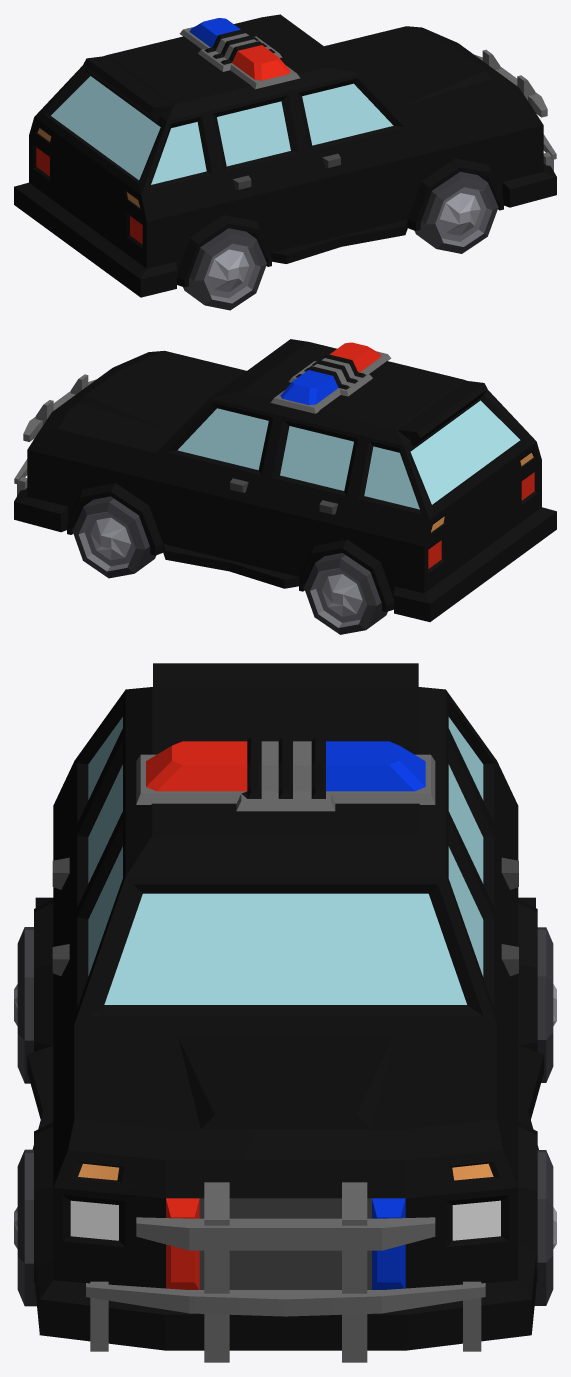
Rendered from car_police_1.fbx.
3 views of the same model, one above another, from view 1: azimuth 30°, elevation 25°; view 2: azimuth 150°, elevation 25°; view 3: azimuth 270°, elevation 25° (orthographic). The views are drawn at different scales.
Parts seen in each view (by area): view 1: car_police_1, car_police_1_wheels_F, car_police_1_wheels_B; view 2: car_police_1, car_police_1_wheels_B, car_police_1_wheels_F; view 3: car_police_1, car_police_1_wheels_F, car_police_1_wheels_B.
Boxes of the visible parts, x1,y1,x2,y2 form: car_police_1: (14,14,556,297); car_police_1_wheels_F: (414,171,498,253); car_police_1_wheels_B: (183,228,266,310); car_police_1: (14,339,556,621); car_police_1_wheels_B: (304,553,387,634); car_police_1_wheels_F: (72,496,156,578); car_police_1: (27,663,544,1362); car_police_1_wheels_F: (14,1149,556,1306); car_police_1_wheels_B: (14,927,556,1083).
Size of the model in its own units: 733 by 324 by 394.
